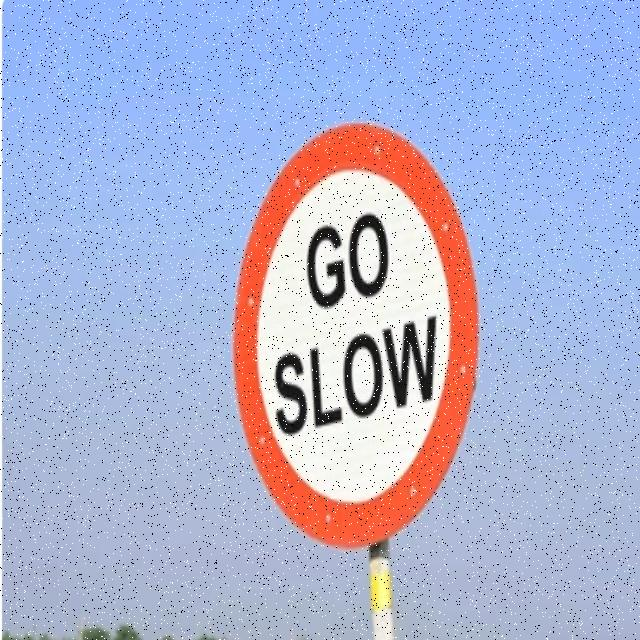go_slow: (234, 122, 482, 548)
